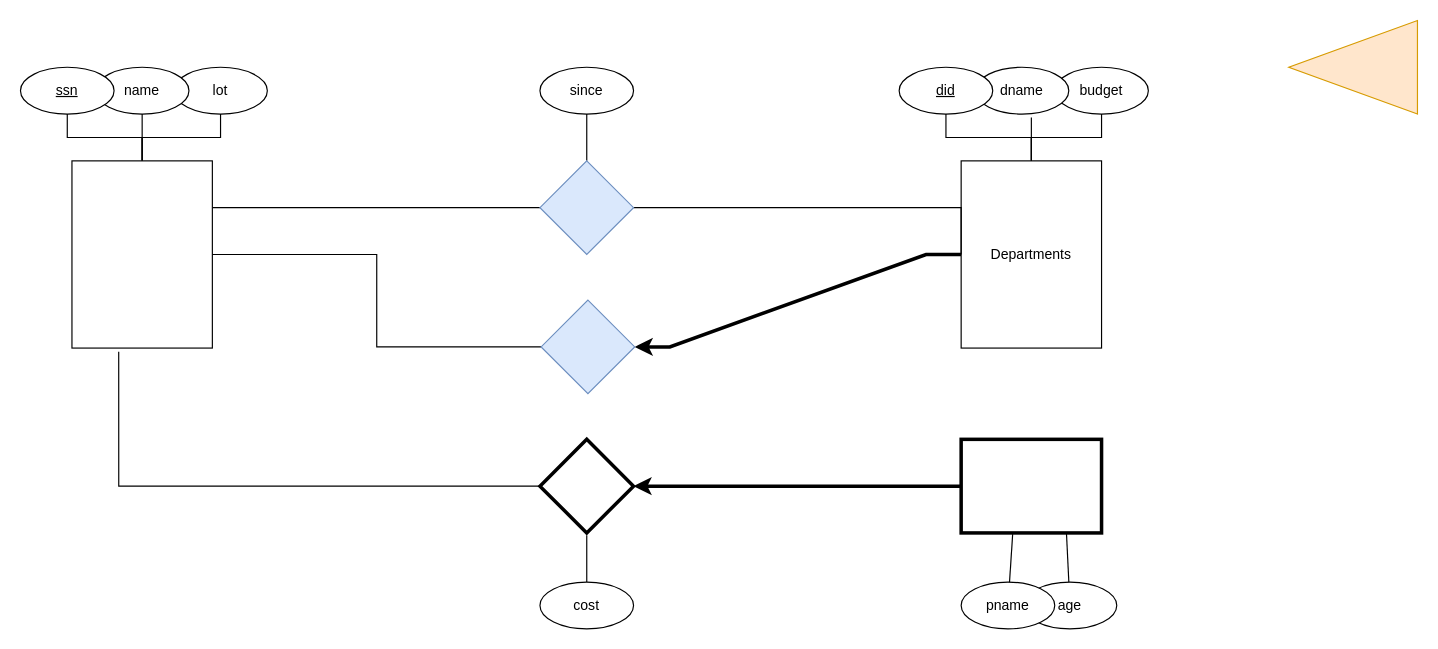
The diagram is 1438 pixels wide and 649 high, and some of its shapes have lost their labels. Here are the shapes that lost their labels. From the top down, the centre of each, then its label:
(1352,66): to page 1
(586,207): Works_In
(141,254): Employees
(587,346): Manages
(586,485): Policy
(1031,485): Depedents
